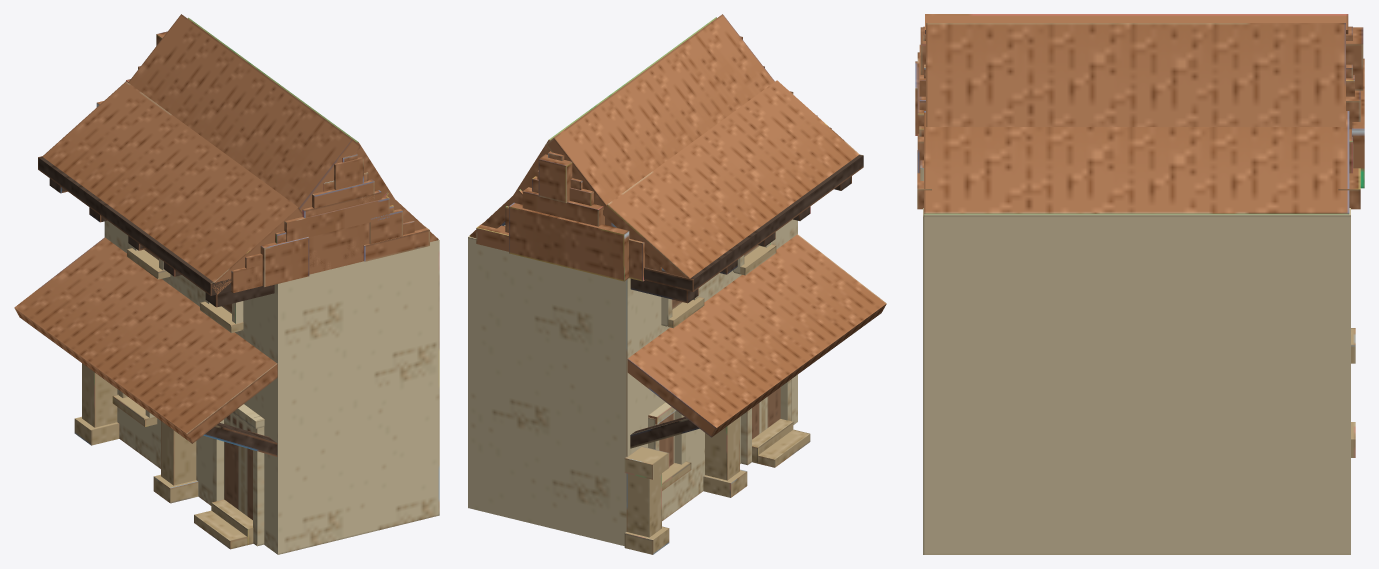
File: medieval H1.obj
3 renders of one model, left to right at view 1: azimuth 30°, elevation 25°; view 2: azimuth 150°, elevation 25°; view 3: azimuth 270°, elevation 25°, orthographic. The views are drawn at different scales.
Parts seen in each view (by area): view 1: cube; view 2: cube; view 3: cube.
Boxes of the visible parts, left/top/right/bottom form: cube: left=14, top=14, right=439, bottom=554; cube: left=468, top=14, right=886, bottom=554; cube: left=915, top=14, right=1364, bottom=554.
Size of the model in its own units: 4.39 by 6.59 by 5.49.
1 material, 1 textured.
